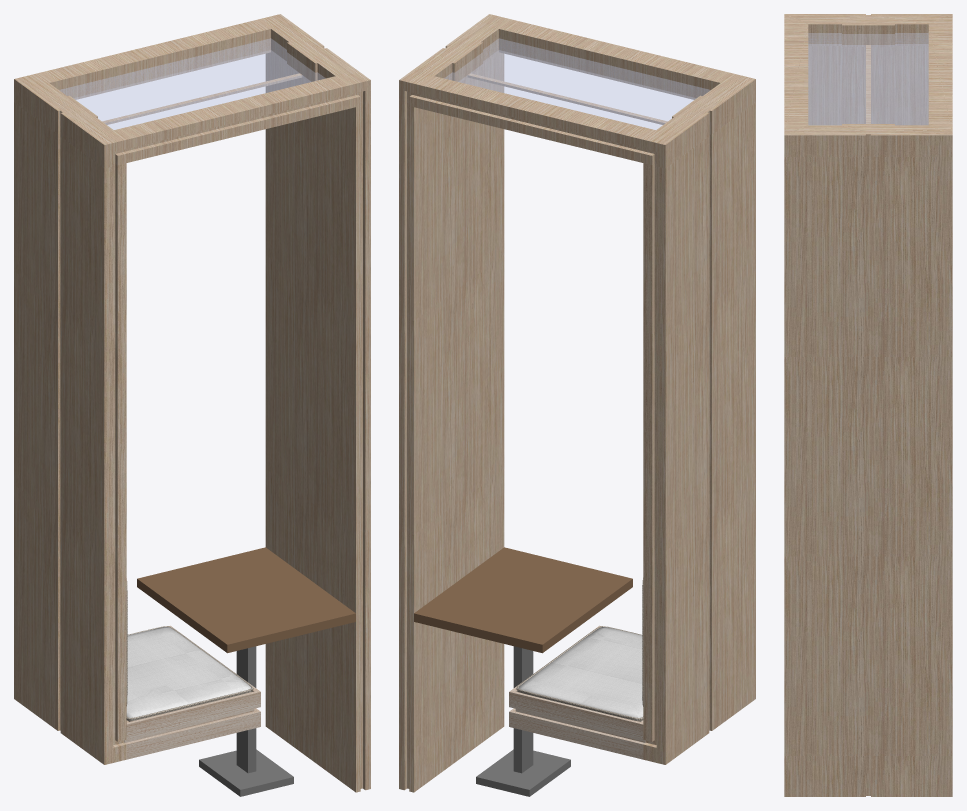
The model's file is single_seat_cave_packed.glb.
The picture shows the model from 3 angles, left to right: view 1: azimuth 30°, elevation 25°; view 2: azimuth 150°, elevation 25°; view 3: azimuth 270°, elevation 25°; orthographic projection. The views are drawn at different scales.
Size of the model in its own units: 1.19 by 3.03 by 0.7.
8 materials, 5 textured.
